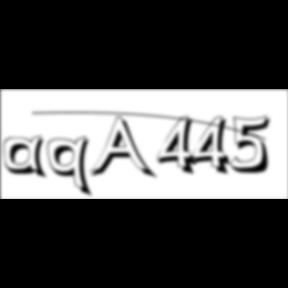4: (190, 115, 238, 179), (156, 115, 202, 179)
5: (230, 114, 276, 176)
A: (90, 116, 158, 182)
a: (4, 135, 52, 182)
q: (48, 135, 96, 200)
